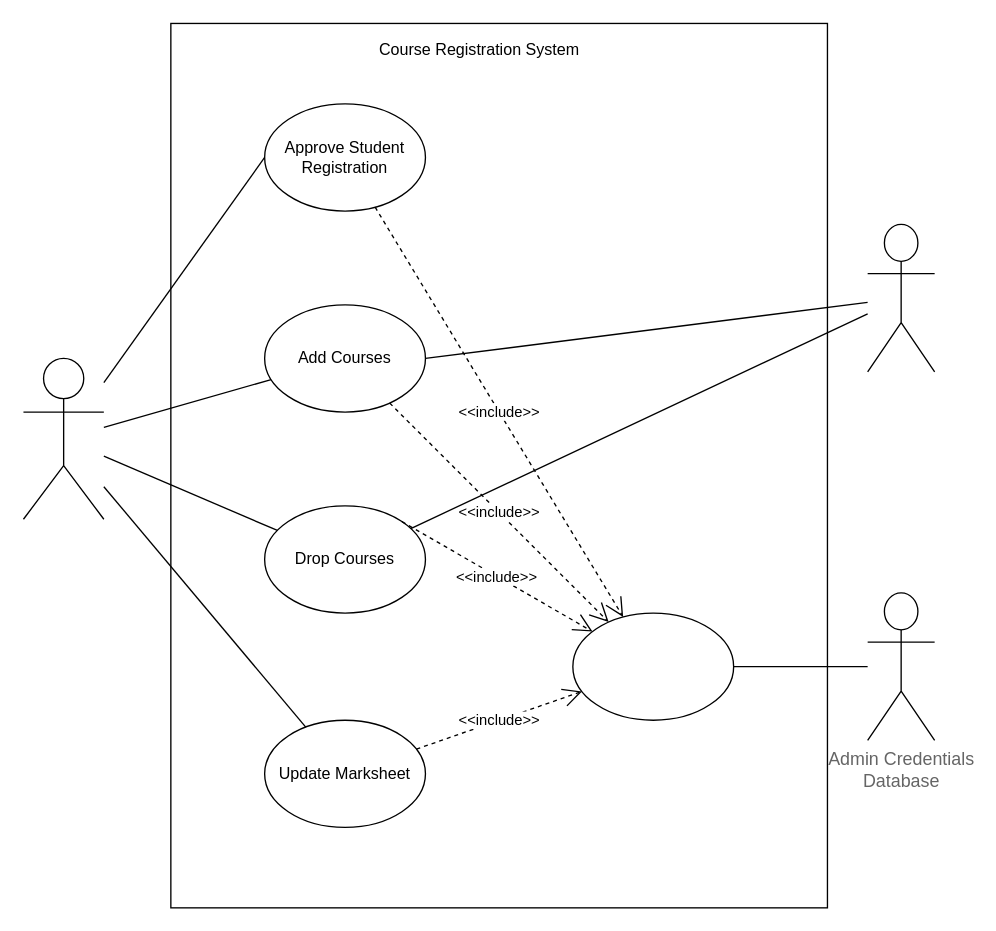
Image size: 996x931. Some labels were removed from this diagram. Each missing label, with the box of its shape:
Admin: (22, 357, 104, 519)
Check Credentials: (572, 612, 734, 720)
Course Catalogue Database: (866, 223, 935, 372)
